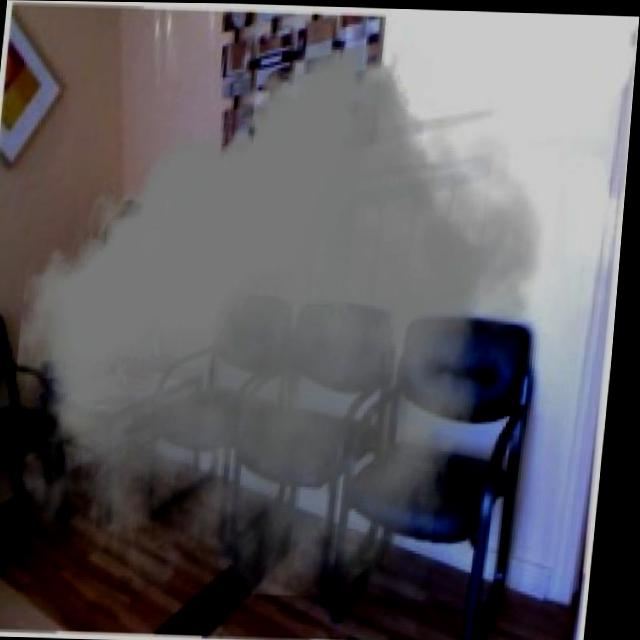Smoke: (0, 30, 574, 600)
